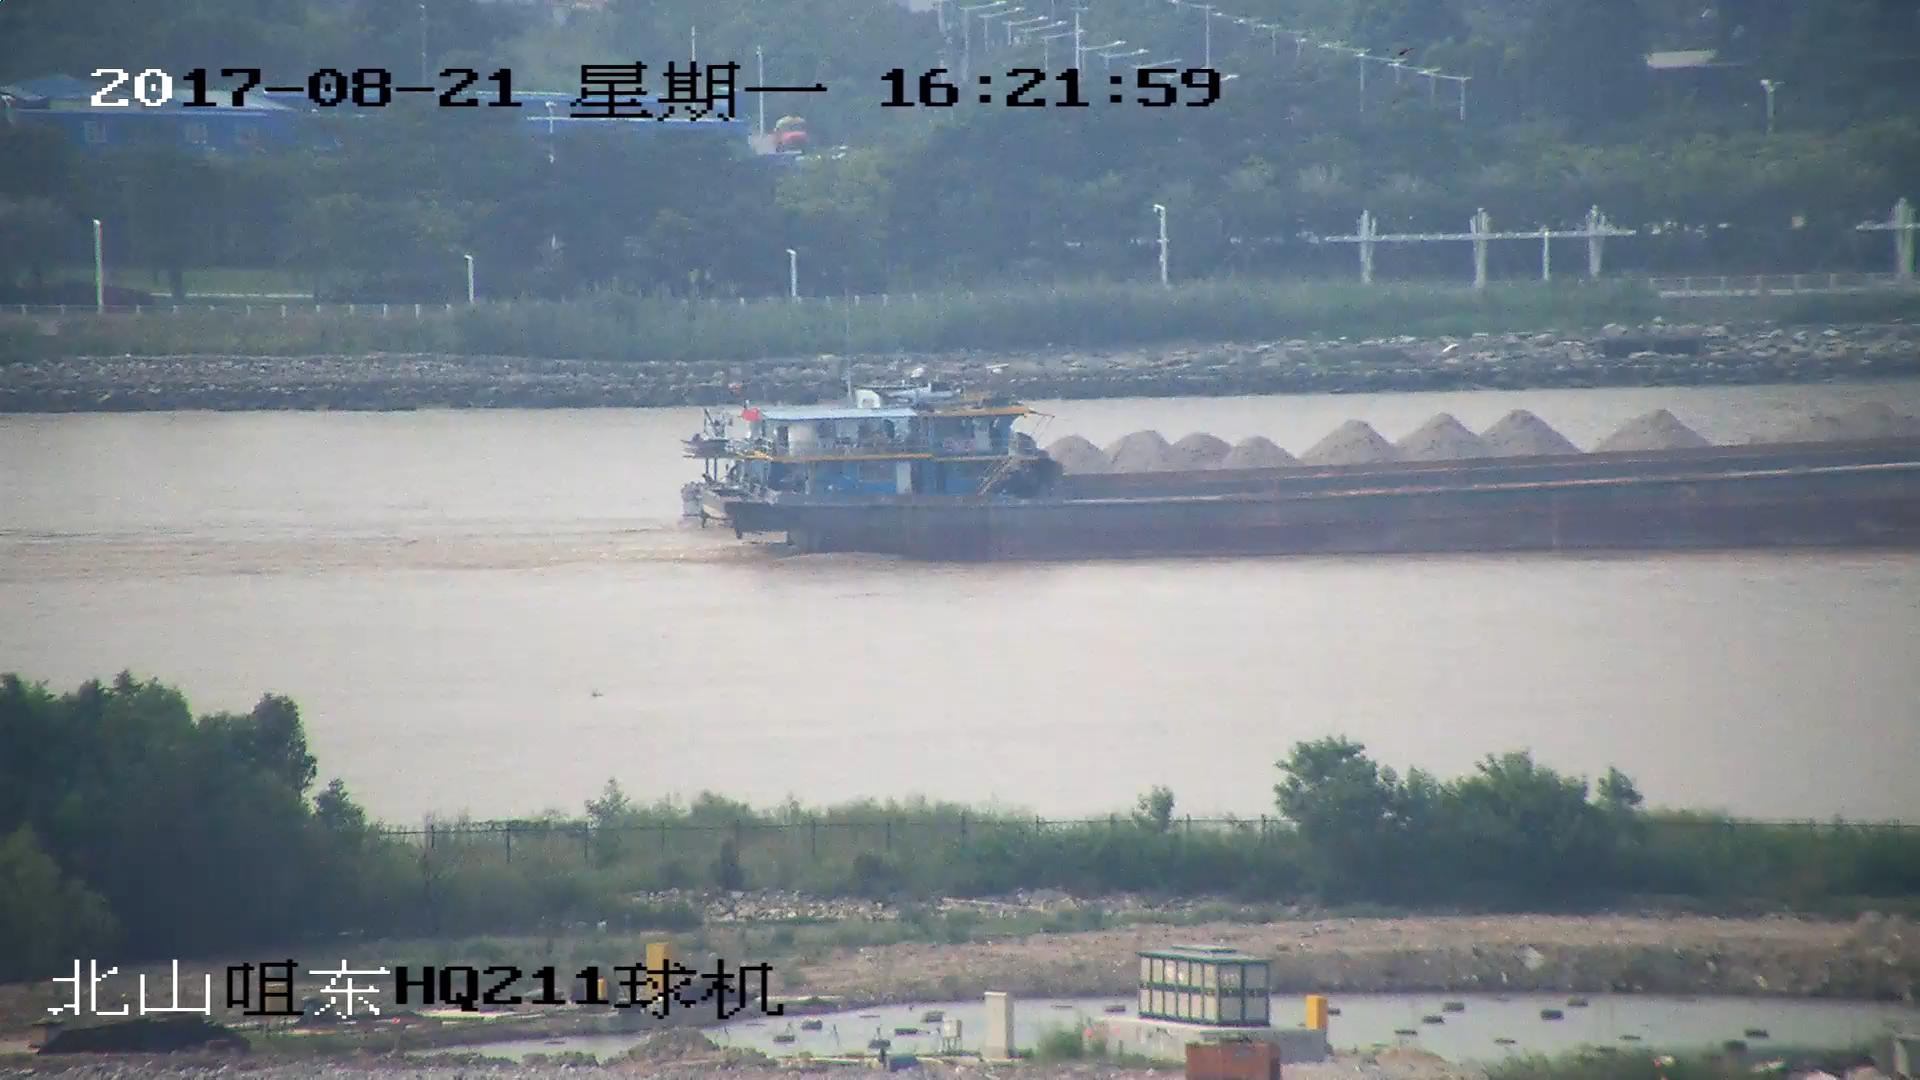bulk cargo carrier: (708, 412, 1920, 552)
ore carrier: (678, 382, 1920, 514)
